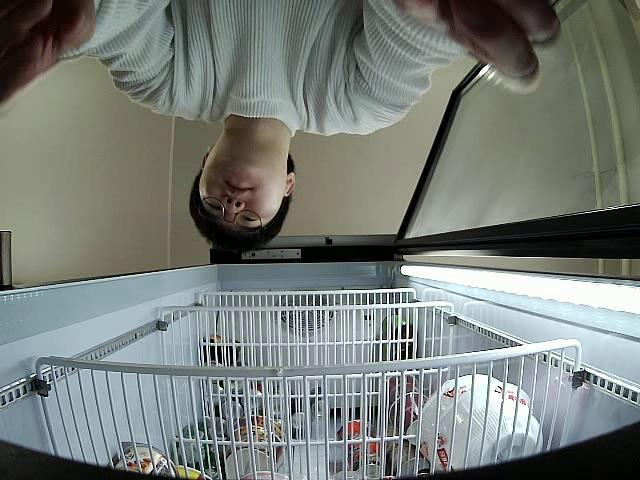00_hand: (391, 0, 559, 99), (0, 0, 97, 113)
